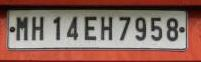1: (52, 15, 62, 40)
4: (65, 15, 79, 40)
5: (148, 16, 162, 40)
7: (116, 15, 130, 40)
8: (165, 16, 179, 41)
9: (133, 16, 147, 40)
E: (82, 15, 96, 40)
H: (30, 15, 44, 40), (99, 14, 112, 40)
M: (14, 15, 28, 40)
